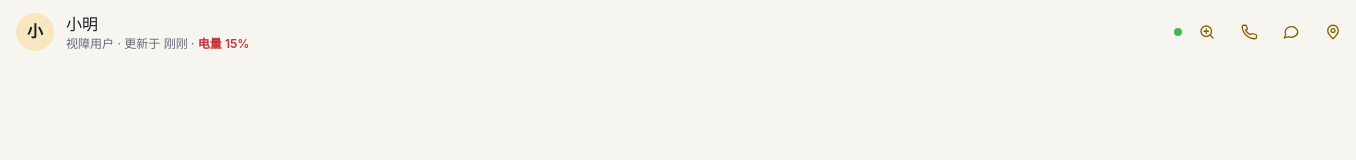
Test: SharingContactRow 共享位置联系人行（定位/呼叫/发消息） › 查看地址：带最近路口时附"附近路口X与Y交叉口"（转告出租/路人的强定位锚点）；同名两路不拼
The width and height of the screenshot is (1356, 160).
Click the button named "查看 小明 所在地址": (1207, 32) [1190,15,1224,49]
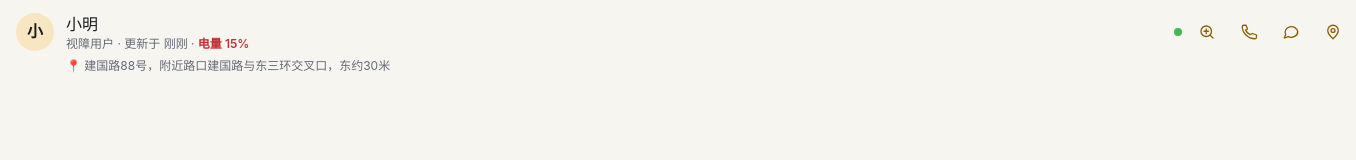
Expected: the text "📍 建国路88号，附近路口建国路与东三环交叉口，东约30米" is shown, [66,58,390,73]
